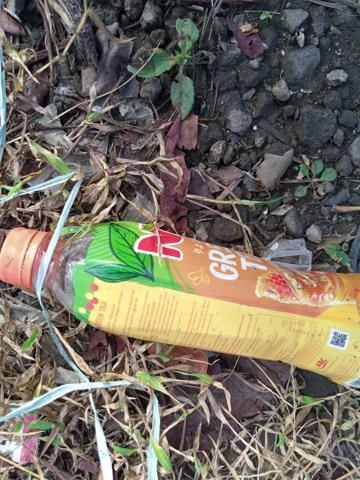botol_kaca: (1, 205, 360, 400)
